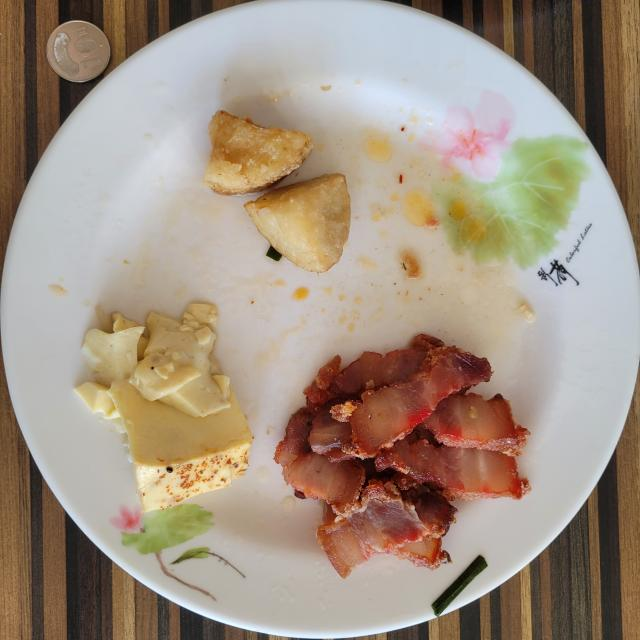coin: (46, 21, 110, 82)
fried potato: (244, 174, 351, 272), (204, 110, 314, 195)
red grilled pork: (274, 334, 530, 578)
